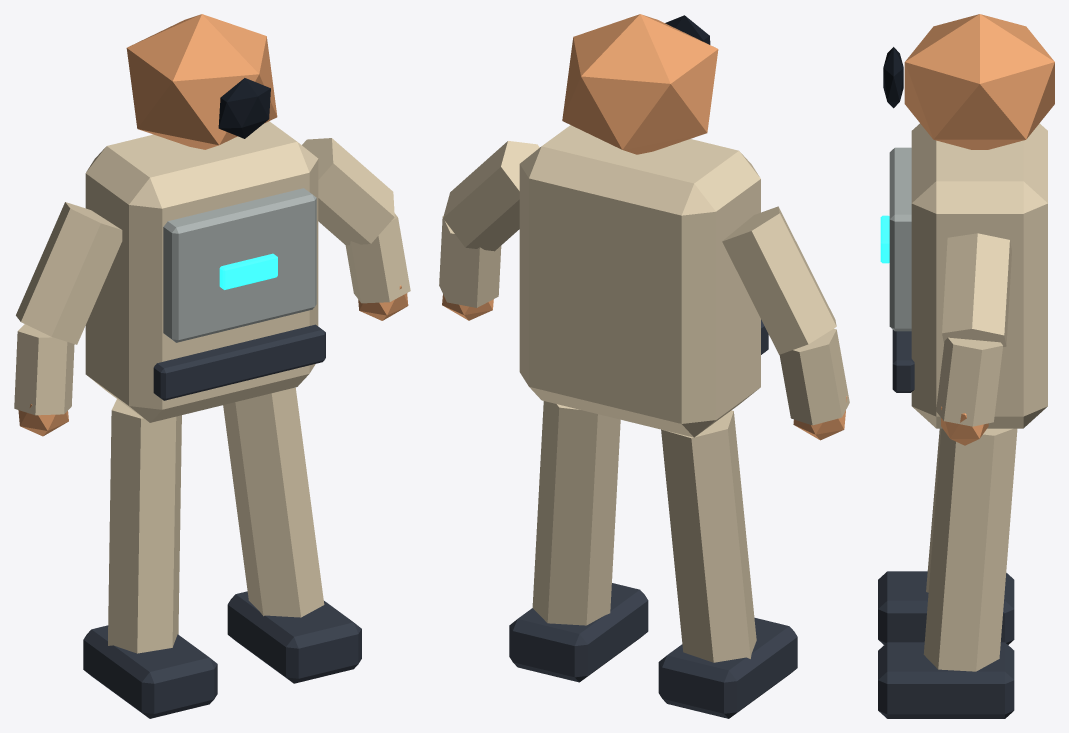
The model's file is npcs_005_seed11.glb.
3 renders of one model, left to right at view 1: azimuth 30°, elevation 25°; view 2: azimuth 150°, elevation 25°; view 3: azimuth 270°, elevation 25°, orthographic. The views are drawn at different scales.
Parts seen in each view (by area): view 1: npcs_005_seed11; view 2: npcs_005_seed11; view 3: npcs_005_seed11.
Part boxes in pixels (left/top/right/bottom): npcs_005_seed11: left=14, top=14, right=410, bottom=718; npcs_005_seed11: left=439, top=14, right=849, bottom=718; npcs_005_seed11: left=878, top=14, right=1054, bottom=718.
Bounding box in the file's own units: 1.21 × 1.93 × 0.4737.
